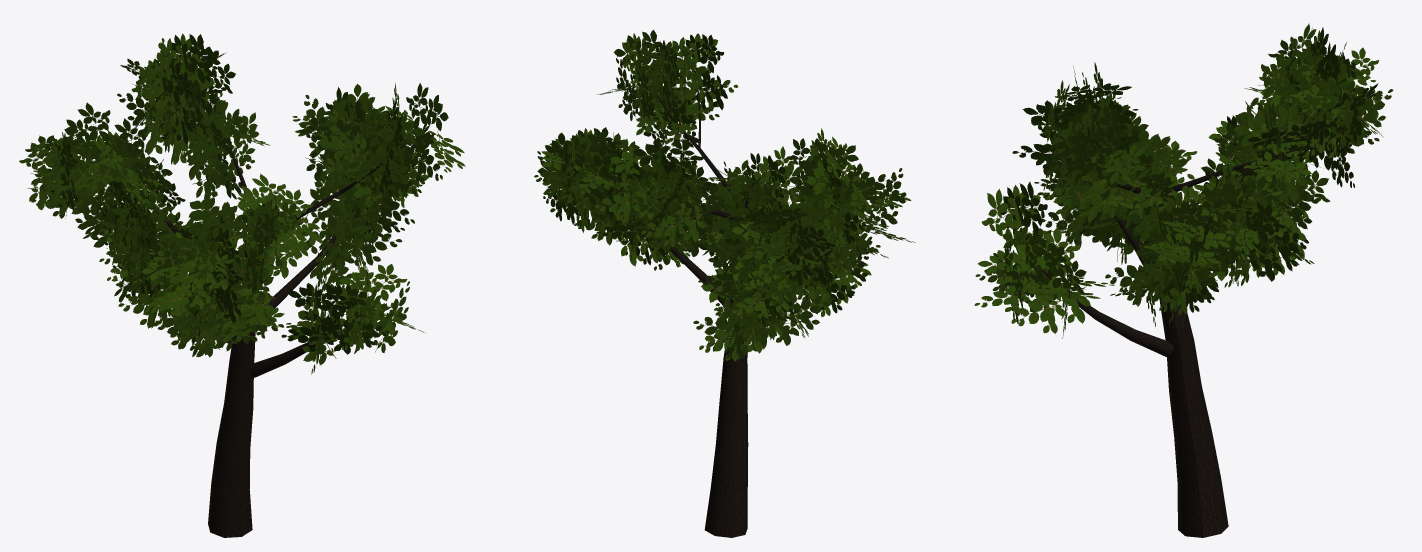
File: oak.glb
3 renders of one model, left to right at view 1: azimuth 30°, elevation 25°; view 2: azimuth 150°, elevation 25°; view 3: azimuth 270°, elevation 25°, orthographic. The views are drawn at different scales.
Visible parts, largest first — view 1: oak_canopy, oak_trunk; view 2: oak_canopy, oak_trunk; view 3: oak_canopy, oak_trunk.
Boxes of the visible parts, x1,y1,x2,y2 form: oak_canopy: [19, 33, 465, 374]; oak_trunk: [96, 97, 414, 537]; oak_canopy: [534, 29, 915, 361]; oak_trunk: [634, 69, 853, 537]; oak_canopy: [974, 23, 1393, 338]; oak_trunk: [1026, 103, 1338, 537].
Size of the model in its own units: 6.18 by 7.52 by 6.06.
Materials: 2 (2 with a texture image).
